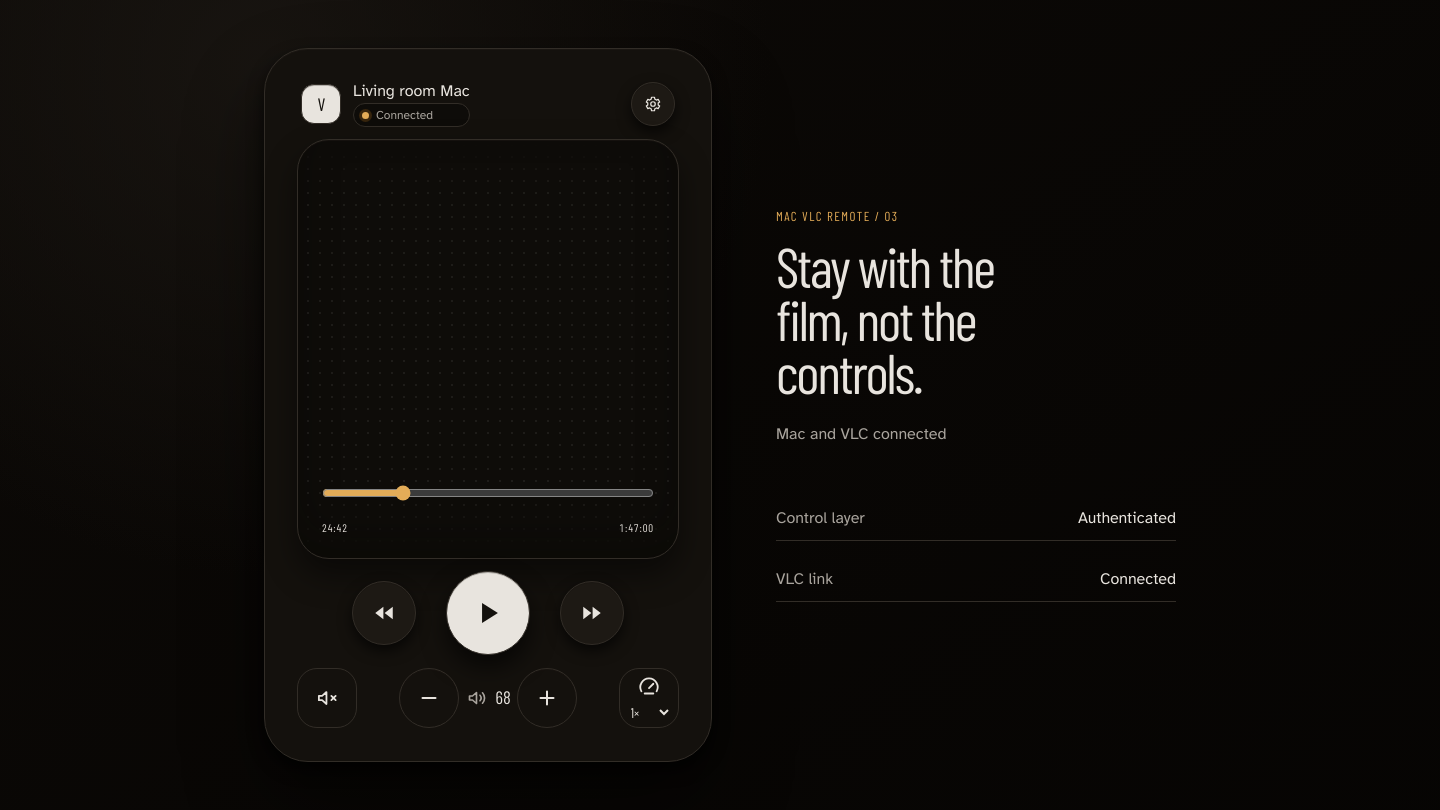
Test case: mobile remote › opens the Desktop Movies library with one touch on the touch surface
The width and height of the screenshot is (1440, 810).
Click the element named "Current playback". click: (488, 349)
box: [297,139,679,559]
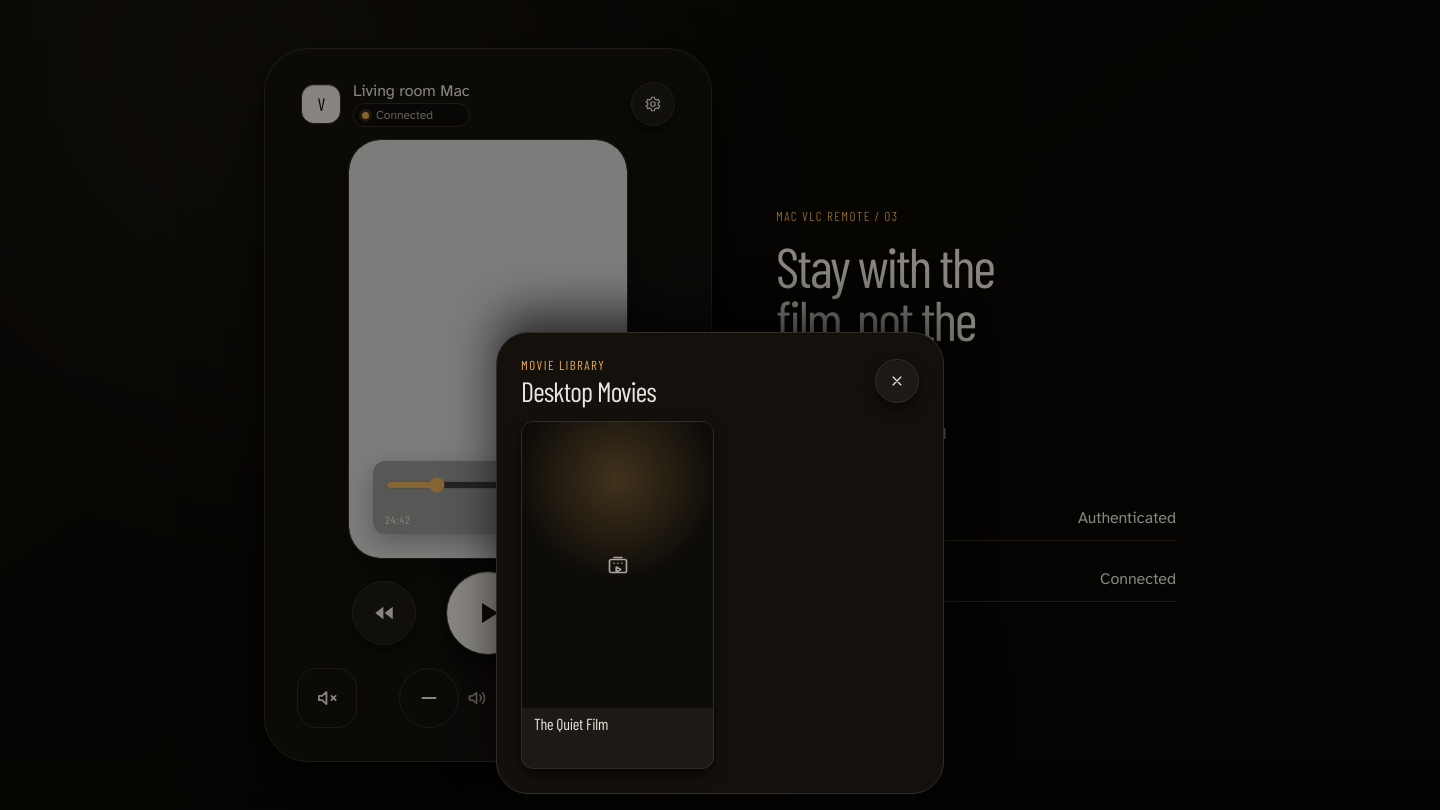
Expected: the dialog "Movie library" is shown, [496,332,944,794]
Expected: the button with aria-label "Play The Quiet Film" is shown, [521,420,714,769]
